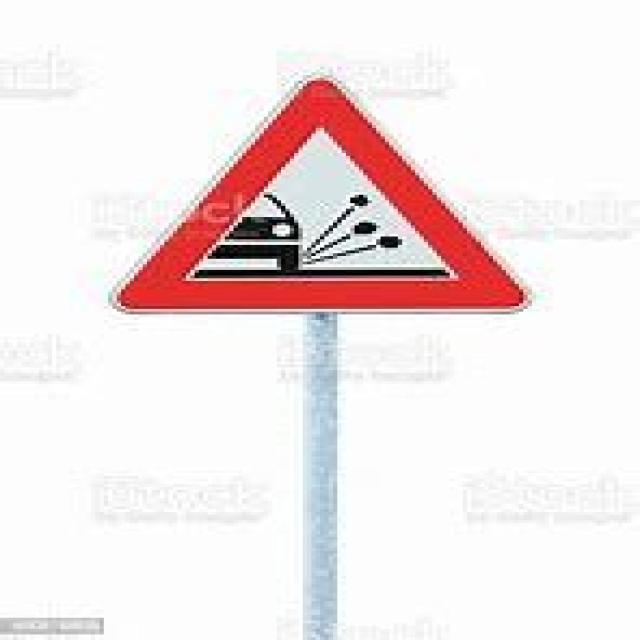loose gravel: (107, 73, 526, 312)
